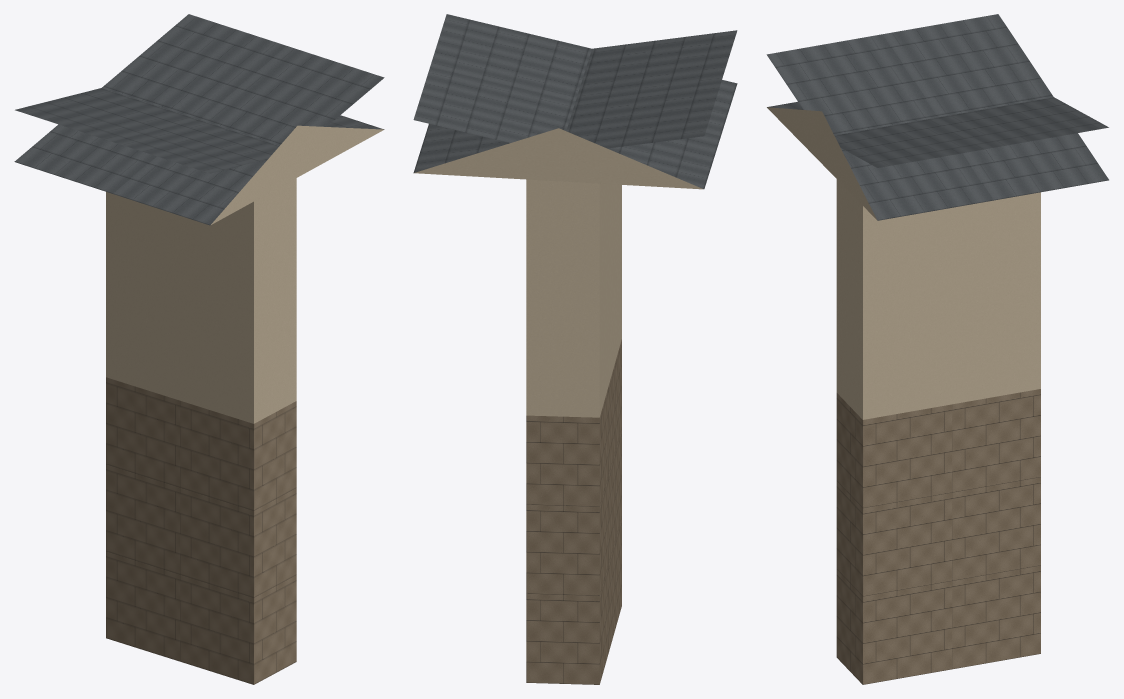
The model's file is bld_c44_48_185.gltf.
The picture shows the model from 3 angles, left to right: view 1: azimuth 30°, elevation 25°; view 2: azimuth 150°, elevation 25°; view 3: azimuth 270°, elevation 25°; orthographic projection. The views are drawn at different scales.
Parts seen in each view (by area): view 1: bld_c44_48_185; view 2: bld_c44_48_185; view 3: bld_c44_48_185.
Part boxes in pixels (x1,y1,x2,y2): bld_c44_48_185: [14, 14, 384, 684]; bld_c44_48_185: [413, 14, 737, 684]; bld_c44_48_185: [766, 14, 1108, 684].
Size of the model in its own units: 6.27 by 10.7 by 5.9.
4 materials, 4 textured.
